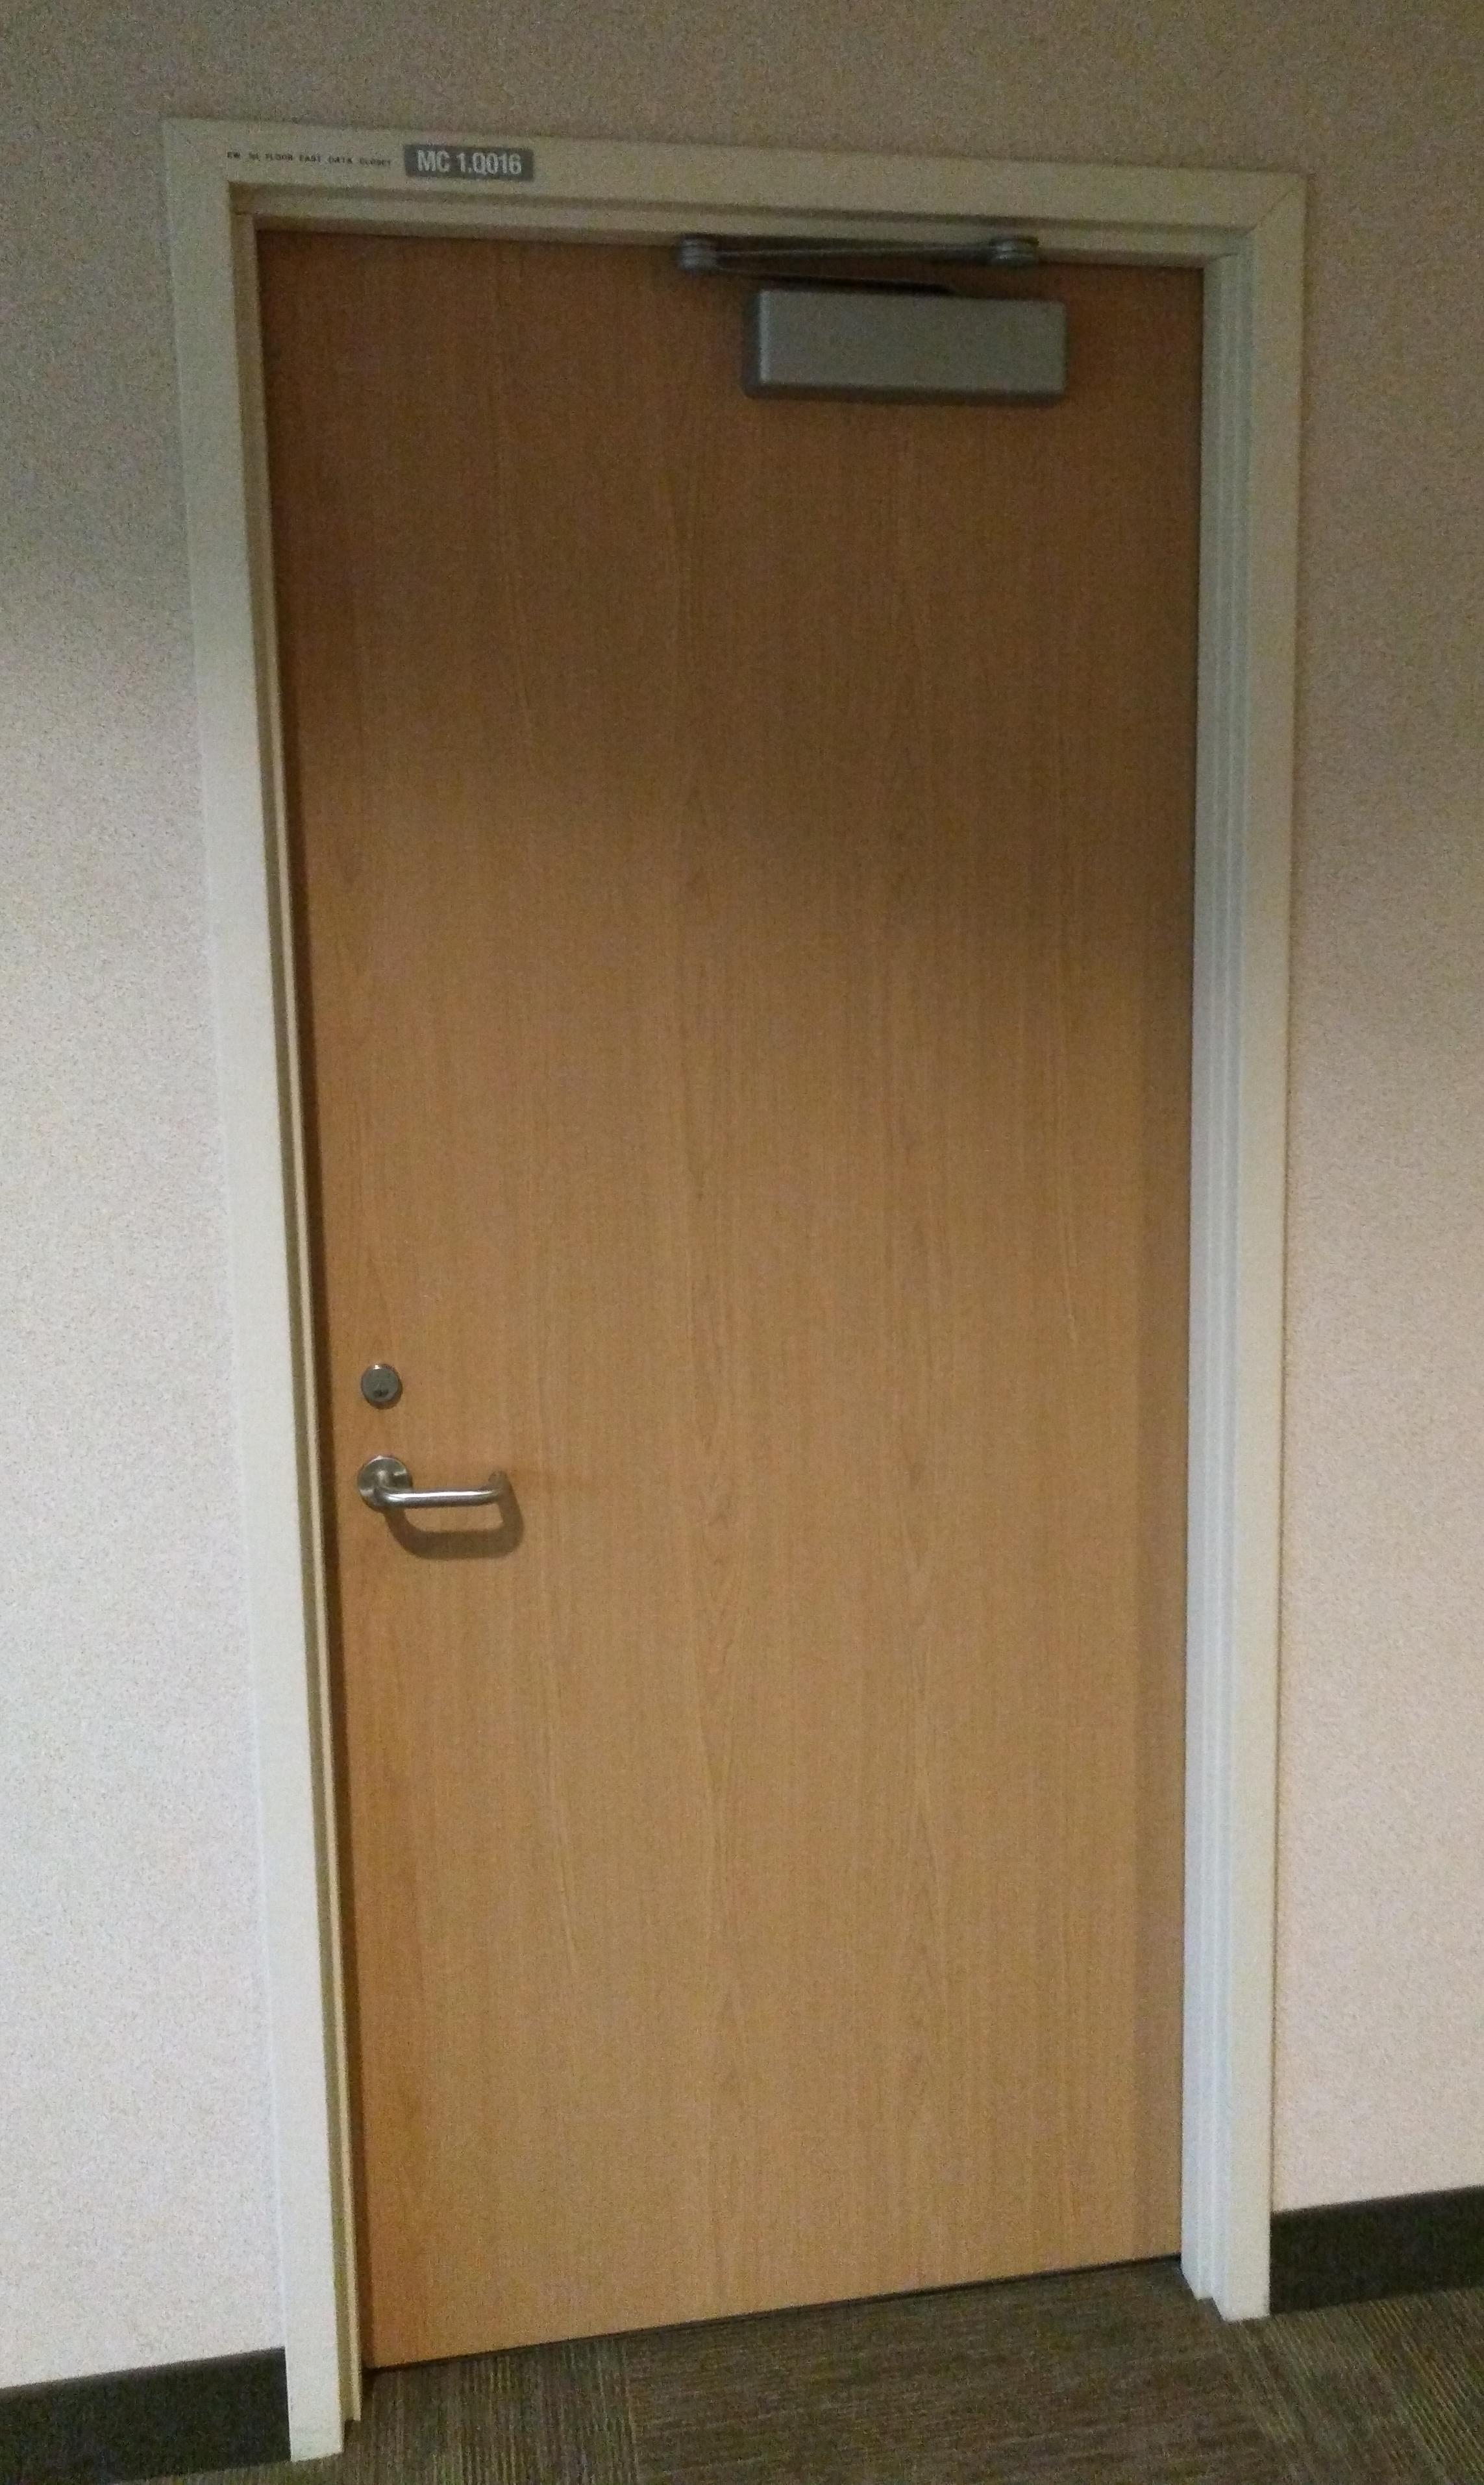door: (223, 164, 1261, 2347)
